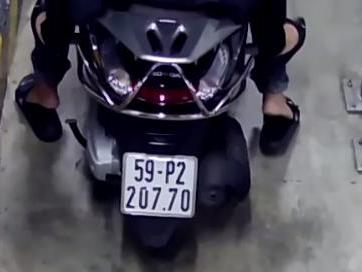num_plate: (119, 151, 197, 220)
